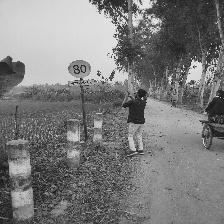Speed-limit: (67, 60, 93, 88)
